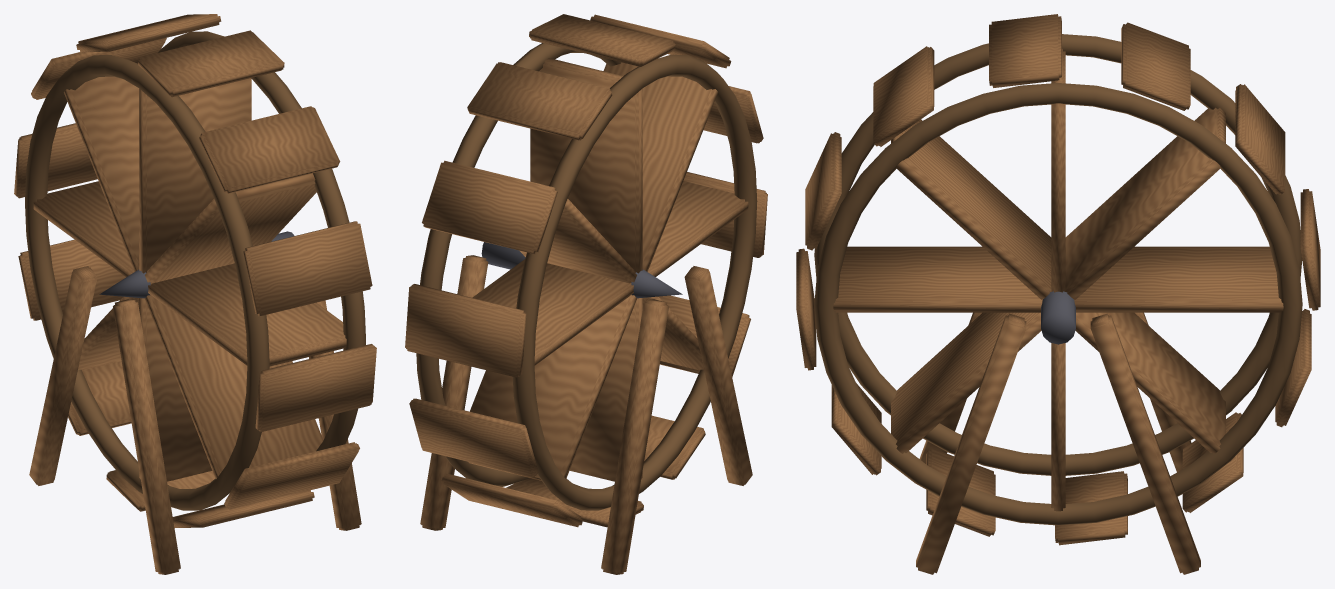
Rendered from WaterWheel.fbx.
The picture shows the model from 3 angles, left to right: view 1: azimuth 30°, elevation 25°; view 2: azimuth 150°, elevation 25°; view 3: azimuth 270°, elevation 25°; orthographic projection. The views are drawn at different scales.
Parts seen in each view (by area): view 1: WaterWheel; view 2: WaterWheel; view 3: WaterWheel.
Part boxes in pixels (box(x1,y1,x2,y2)): WaterWheel: box(14, 14, 376, 574); WaterWheel: box(405, 14, 767, 574); WaterWheel: box(796, 14, 1320, 574).
Bounding box in the file's own units: 165 × 367 × 361.
1 material, 1 textured.
